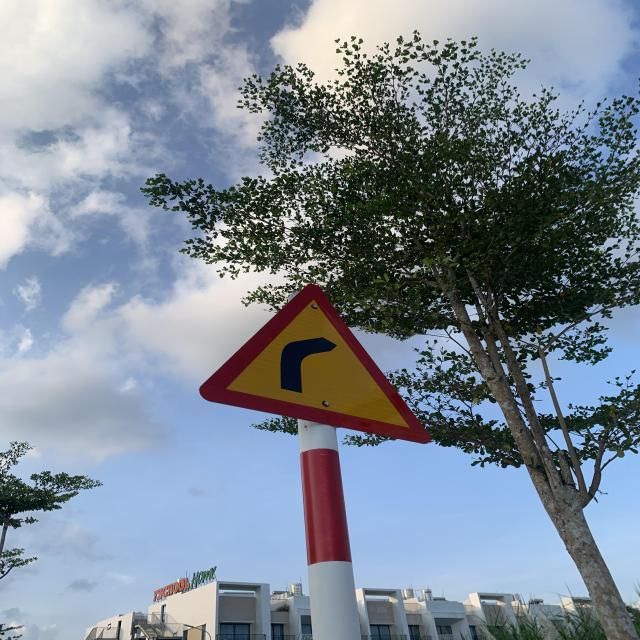Duong_Nguoi_Di_Bo_Cat_Ngang: (198, 284, 429, 445)
